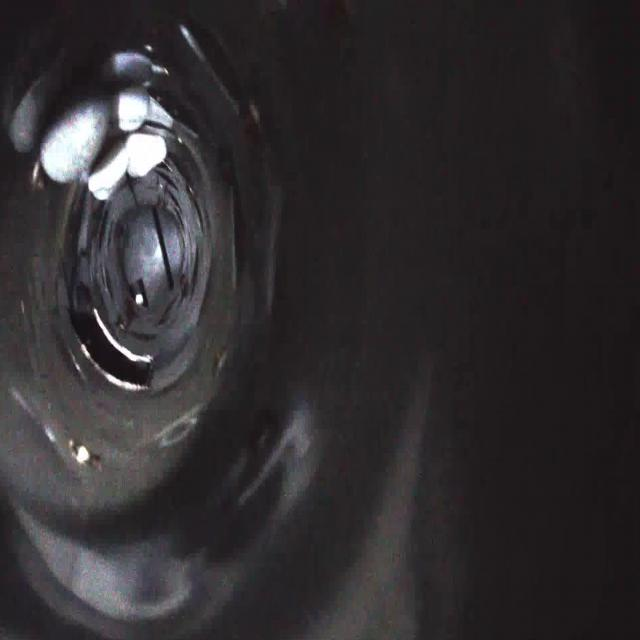crack: (65, 188, 112, 253), (184, 178, 218, 255), (144, 148, 182, 204), (174, 248, 207, 312), (74, 262, 114, 308), (154, 291, 182, 331), (116, 142, 138, 182), (122, 326, 158, 350)
hole: (65, 306, 157, 403)
